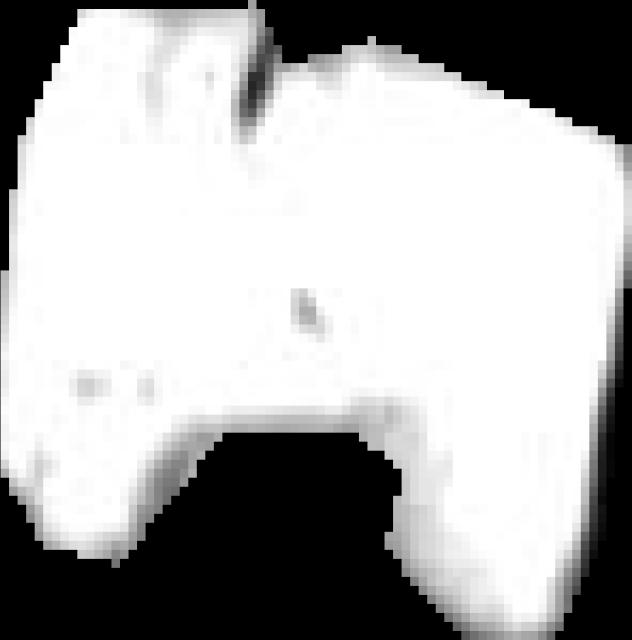tumor_good_chance: (1, 0, 632, 640)
